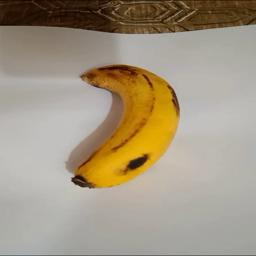Banana Semifresh: (64, 65, 180, 189)
